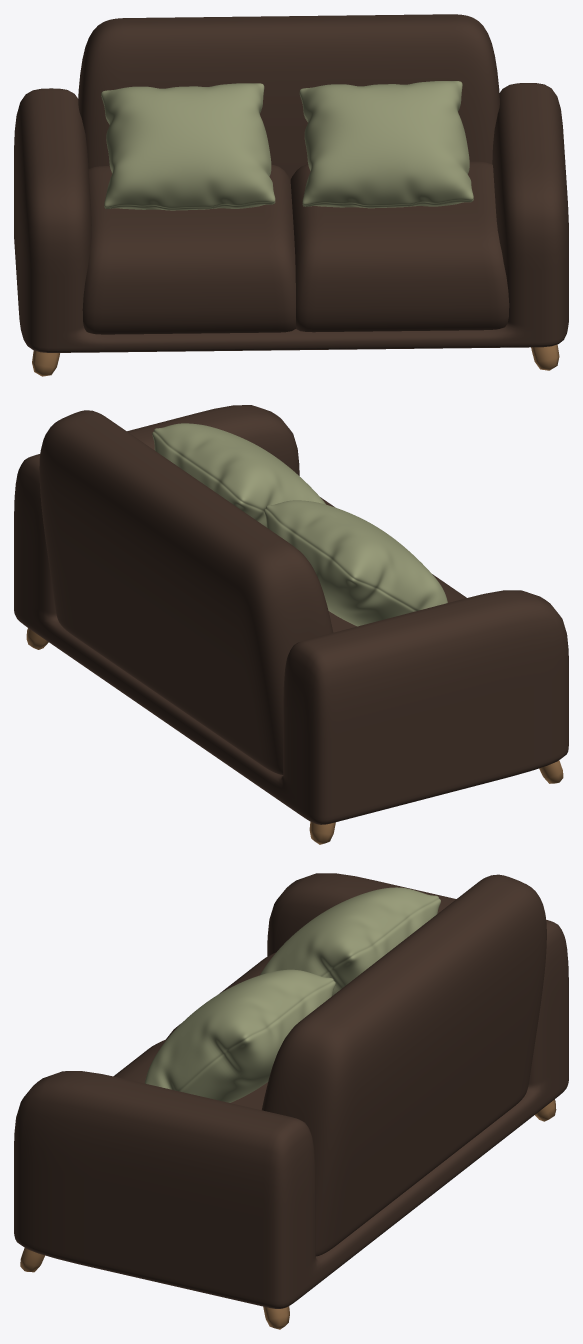
The model's file is Double Sofa With Pillow.glb.
3 views of the same model, one above another, from view 1: azimuth 30°, elevation 25°; view 2: azimuth 150°, elevation 25°; view 3: azimuth 270°, elevation 25° (orthographic). The views are drawn at different scales.
Visible parts, largest first — view 1: Cube.225, Cube.226, Cube.224, Plane.013, Plane.014, Plane.244; view 2: Cube.226, Cube.224, Plane.013, Plane.014, Plane.244, Cube.225; view 3: Cube.226, Cube.224, Plane.014, Plane.013, Cube.225, Plane.244.
Boxes of the visible parts, box(x1,y1,x2,y2) form: Cube.225: box(82, 161, 509, 334); Cube.226: box(14, 83, 568, 352); Cube.224: box(78, 14, 499, 179); Plane.013: box(101, 83, 275, 210); Plane.014: box(299, 81, 473, 208); Plane.244: box(32, 344, 559, 376); Cube.226: box(14, 405, 568, 824); Cube.224: box(39, 410, 333, 774); Plane.013: box(264, 500, 447, 626); Plane.014: box(152, 423, 325, 526); Plane.244: box(26, 628, 563, 844); Cube.225: box(320, 497, 466, 632); Cube.226: box(14, 873, 568, 1308); Cube.224: box(262, 874, 546, 1256); Plane.014: box(145, 969, 335, 1102); Plane.013: box(260, 887, 440, 995); Cube.225: box(113, 952, 275, 1110); Plane.244: box(20, 1099, 556, 1329).
Bounding box in the file's own units: 2.89 × 1.3 × 2.39.
